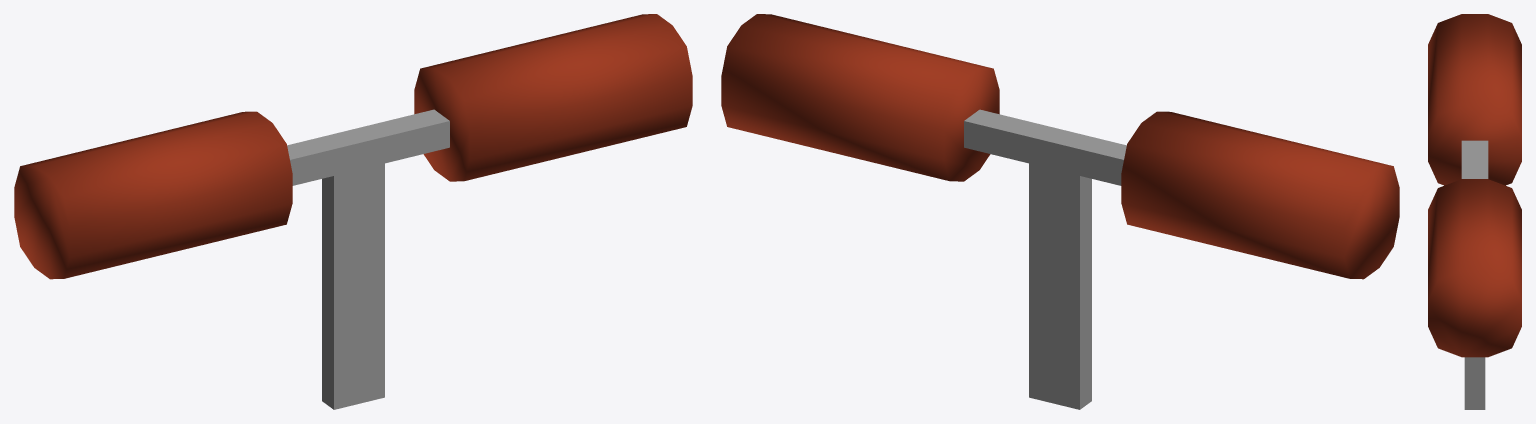
File: e-machine-ac-1.glb
3 renders of one model, left to right at view 1: azimuth 30°, elevation 25°; view 2: azimuth 150°, elevation 25°; view 3: azimuth 270°, elevation 25°, orthographic. The views are drawn at different scales.
Parts seen in each view (by area): view 1: E_Machine_Ac_1; view 2: E_Machine_Ac_1; view 3: E_Machine_Ac_1.
Part boxes in pixels (x1=…): E_Machine_Ac_1: x1=14, y1=14, x2=692, y2=409; E_Machine_Ac_1: x1=721, y1=14, x2=1399, y2=409; E_Machine_Ac_1: x1=1428, y1=14, x2=1521, y2=409.
Size of the model in its own units: 74.08 by 34.51 by 11.44.
1 material, 1 textured.
